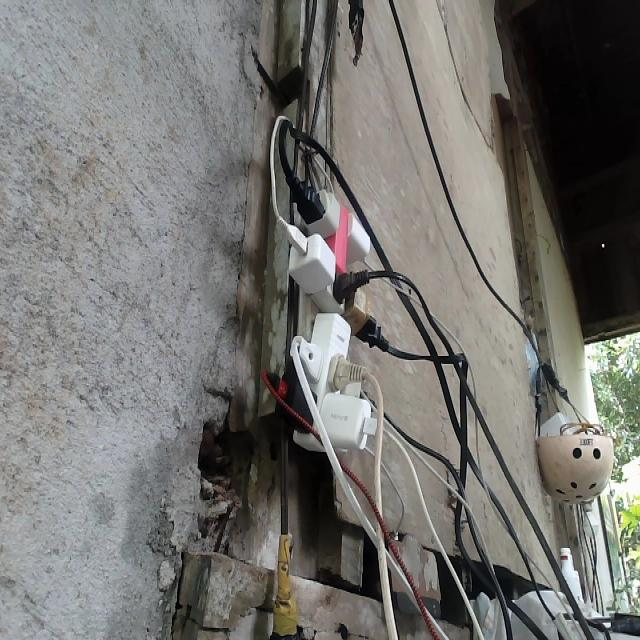-: (273, 168, 395, 457)
